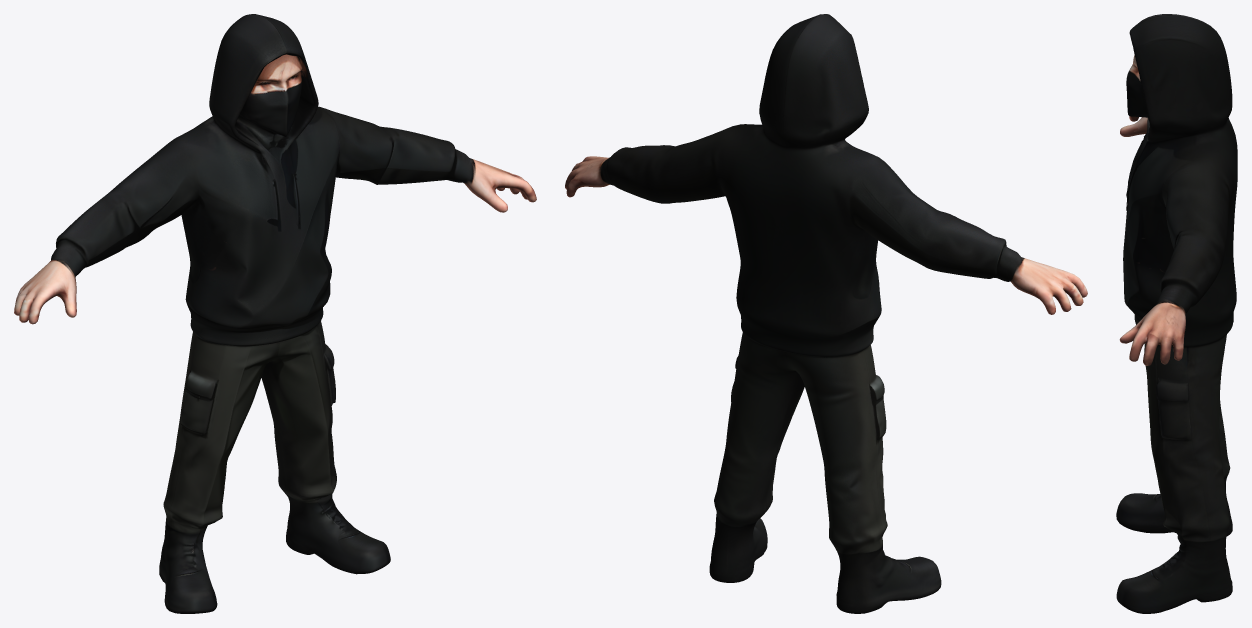
File: 6d4aedaf-f1e7-4d58-b10c-bb30b38579ce.glb
3 views of the same model, side by side, from view 1: azimuth 30°, elevation 25°; view 2: azimuth 150°, elevation 25°; view 3: azimuth 270°, elevation 25° (orthographic).
Visible parts, largest first — view 1: model; view 2: model; view 3: model.
Boxes of the visible parts, x1,y1,x2,y2 form: model: [14, 14, 536, 613]; model: [565, 14, 1087, 613]; model: [1116, 14, 1237, 613].
Size of the model in its own units: 1.64 by 1.71 by 0.3424.
Materials: 1 (1 with a texture image).
